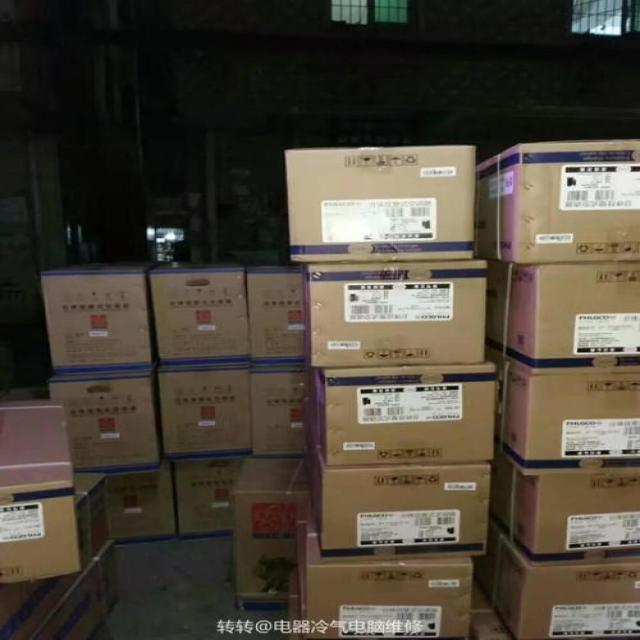box: (285, 146, 479, 262), (311, 447, 490, 559), (306, 360, 497, 462), (306, 524, 471, 640), (497, 137, 640, 269), (307, 261, 486, 366), (498, 363, 640, 478), (506, 262, 640, 376), (492, 538, 640, 639), (44, 260, 170, 374), (507, 470, 640, 565), (230, 457, 311, 611), (49, 369, 160, 474), (150, 260, 251, 367), (159, 367, 251, 462), (0, 480, 83, 583), (0, 397, 73, 487), (26, 561, 104, 640), (247, 266, 308, 367), (108, 460, 179, 546), (0, 570, 84, 640), (179, 456, 244, 541), (251, 366, 310, 457), (73, 471, 109, 562), (471, 516, 504, 610), (483, 259, 512, 363), (474, 154, 499, 260), (488, 448, 516, 538), (92, 538, 120, 622), (73, 492, 92, 570), (294, 527, 307, 639), (470, 609, 516, 640), (300, 415, 317, 492)
